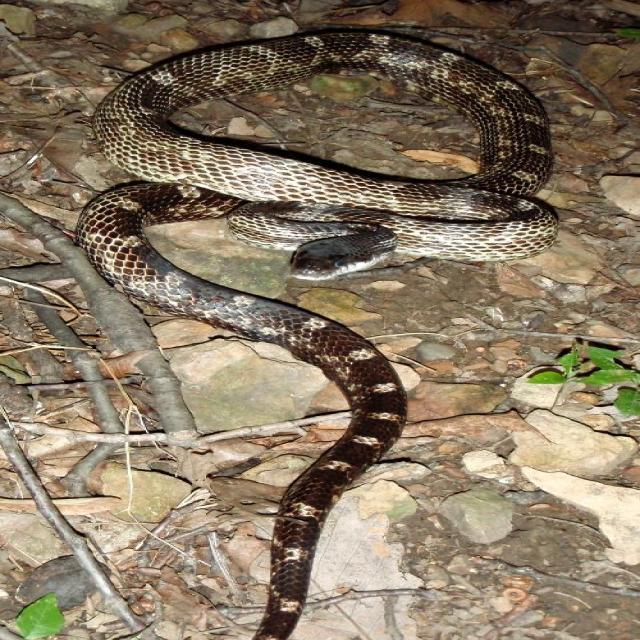Snake: (71, 27, 558, 638)
